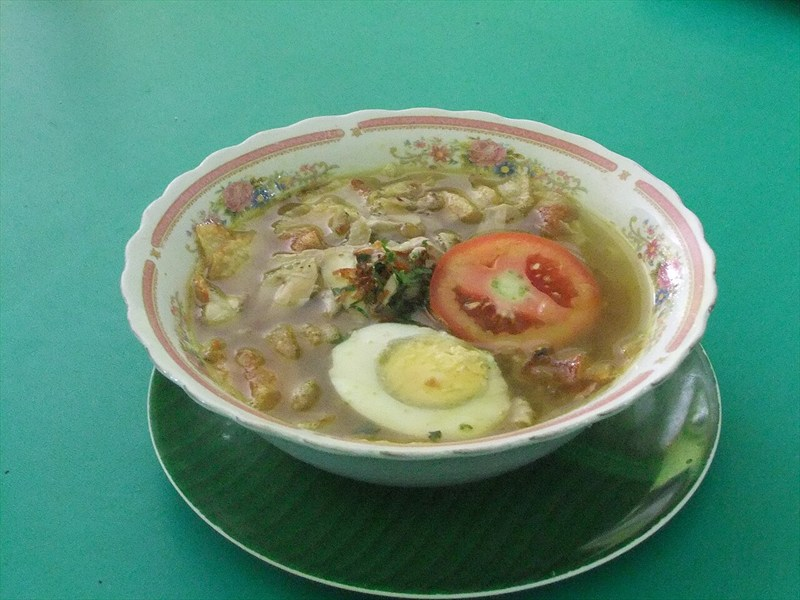Soto Ayam: (142, 119, 713, 531)
